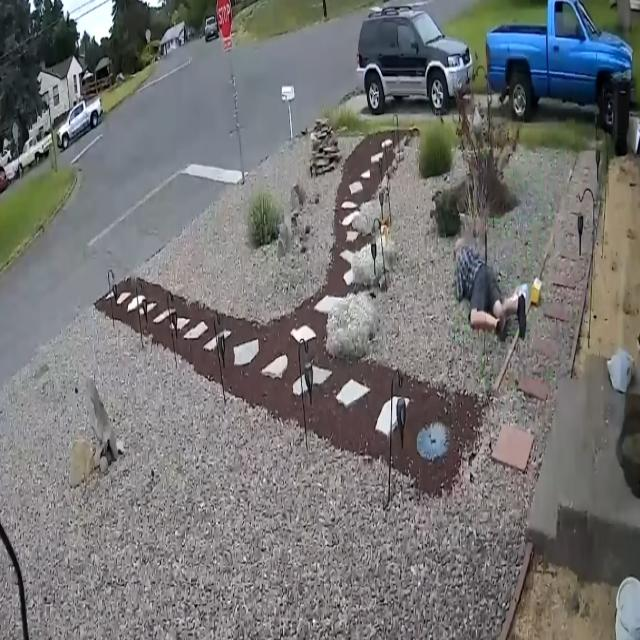fallen: (454, 238, 526, 339)
